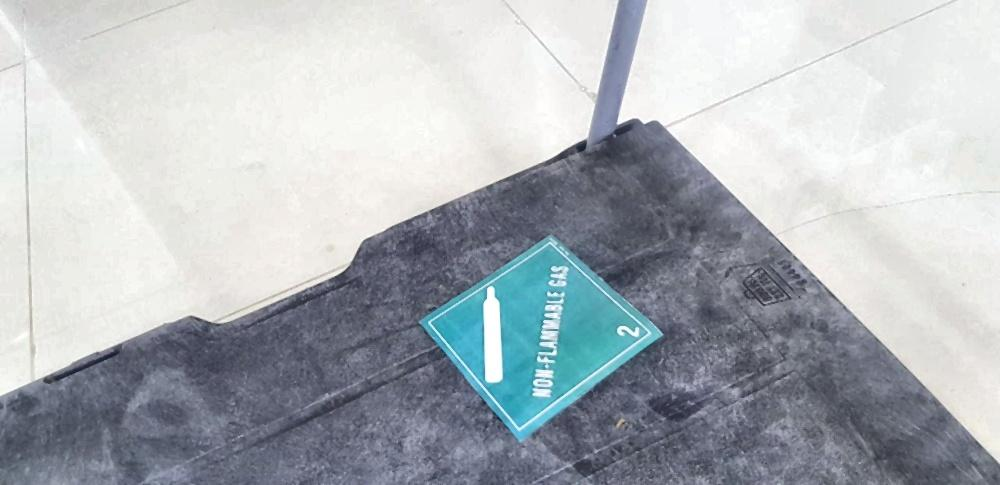non-flammable-gas: (417, 234, 664, 444)
